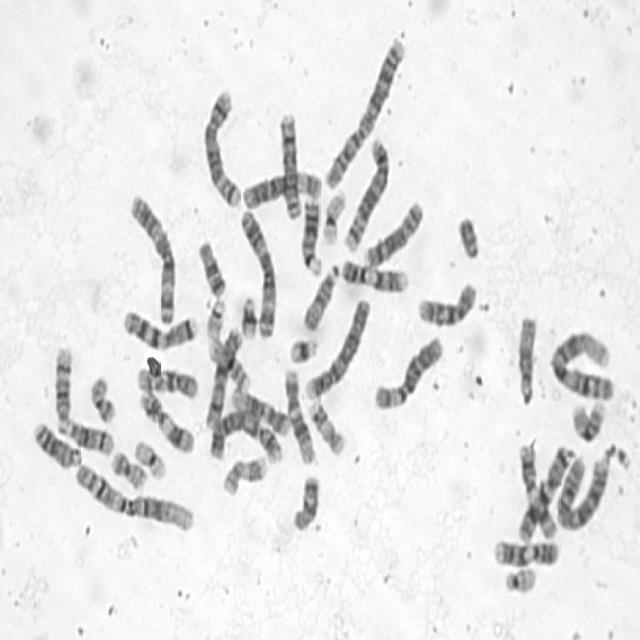A1: (70, 456, 196, 534), (546, 323, 617, 402)
A2: (322, 31, 408, 191), (553, 448, 610, 532)
A3: (126, 188, 178, 326), (238, 202, 280, 340)
B4: (302, 292, 372, 402), (206, 405, 284, 464)
B5: (340, 132, 392, 252), (200, 85, 244, 210)
C10: (415, 276, 479, 329), (133, 362, 199, 402)
C11: (514, 439, 558, 542), (136, 385, 197, 455)
C12: (228, 381, 292, 438), (282, 365, 317, 466)
C6: (371, 331, 445, 412), (240, 163, 324, 211)
C7: (514, 439, 576, 546), (119, 306, 199, 352)
C8: (360, 196, 424, 268), (277, 106, 303, 221)
C9: (336, 254, 410, 295), (490, 532, 561, 570)
D13: (30, 416, 83, 469), (298, 191, 324, 275)
D14: (58, 413, 116, 457), (51, 341, 74, 431)
D15: (299, 258, 342, 332), (513, 310, 539, 409)
E16: (205, 332, 252, 393), (568, 395, 607, 444)
E17: (305, 394, 348, 458), (220, 450, 269, 499)
E18: (289, 469, 322, 534), (195, 237, 228, 297)
F19: (319, 184, 348, 247), (131, 436, 168, 482)
F20: (107, 443, 150, 492), (86, 372, 118, 426)
G21: (237, 288, 259, 342), (286, 332, 320, 365)
G22: (502, 563, 539, 595), (202, 292, 226, 341)
X: (202, 319, 246, 430)
Y: (454, 211, 482, 261)
